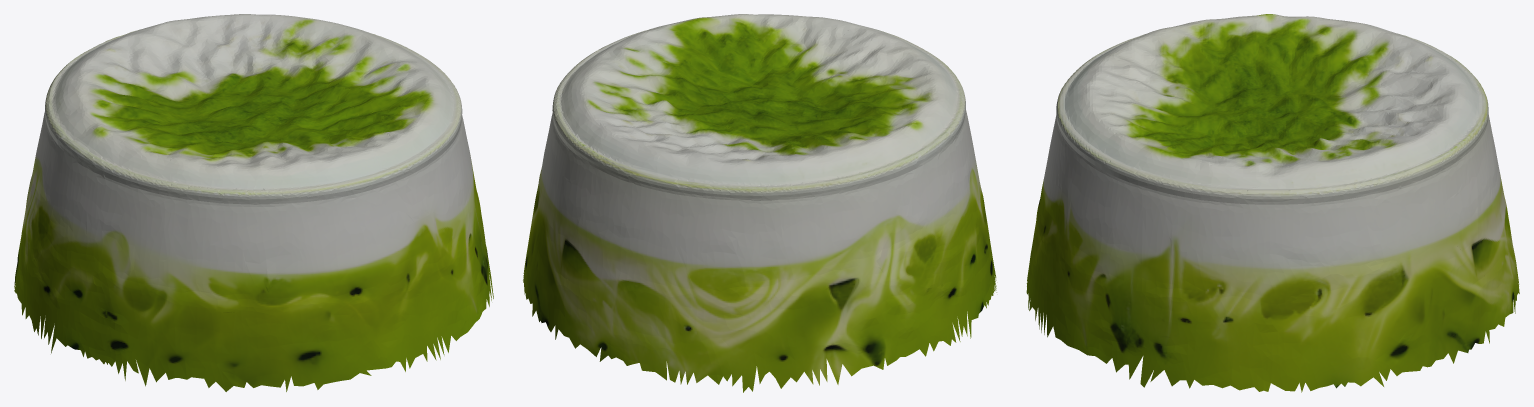
File: matcha_topping.obj
The picture shows the model from 3 angles, left to right: view 1: azimuth 30°, elevation 25°; view 2: azimuth 150°, elevation 25°; view 3: azimuth 270°, elevation 25°; orthographic projection. The views are drawn at different scales.
Visible parts, largest first — view 1: matcha_topping; view 2: matcha_topping; view 3: matcha_topping.
Part boxes in pixels (box(x1,y1,x2,y2)): matcha_topping: box(14, 14, 493, 391); matcha_topping: box(523, 14, 996, 392); matcha_topping: box(1026, 14, 1519, 392).
Bounding box in the file's own units: 0.7082 × 0.343 × 0.7176.
1 material, 1 textured.
